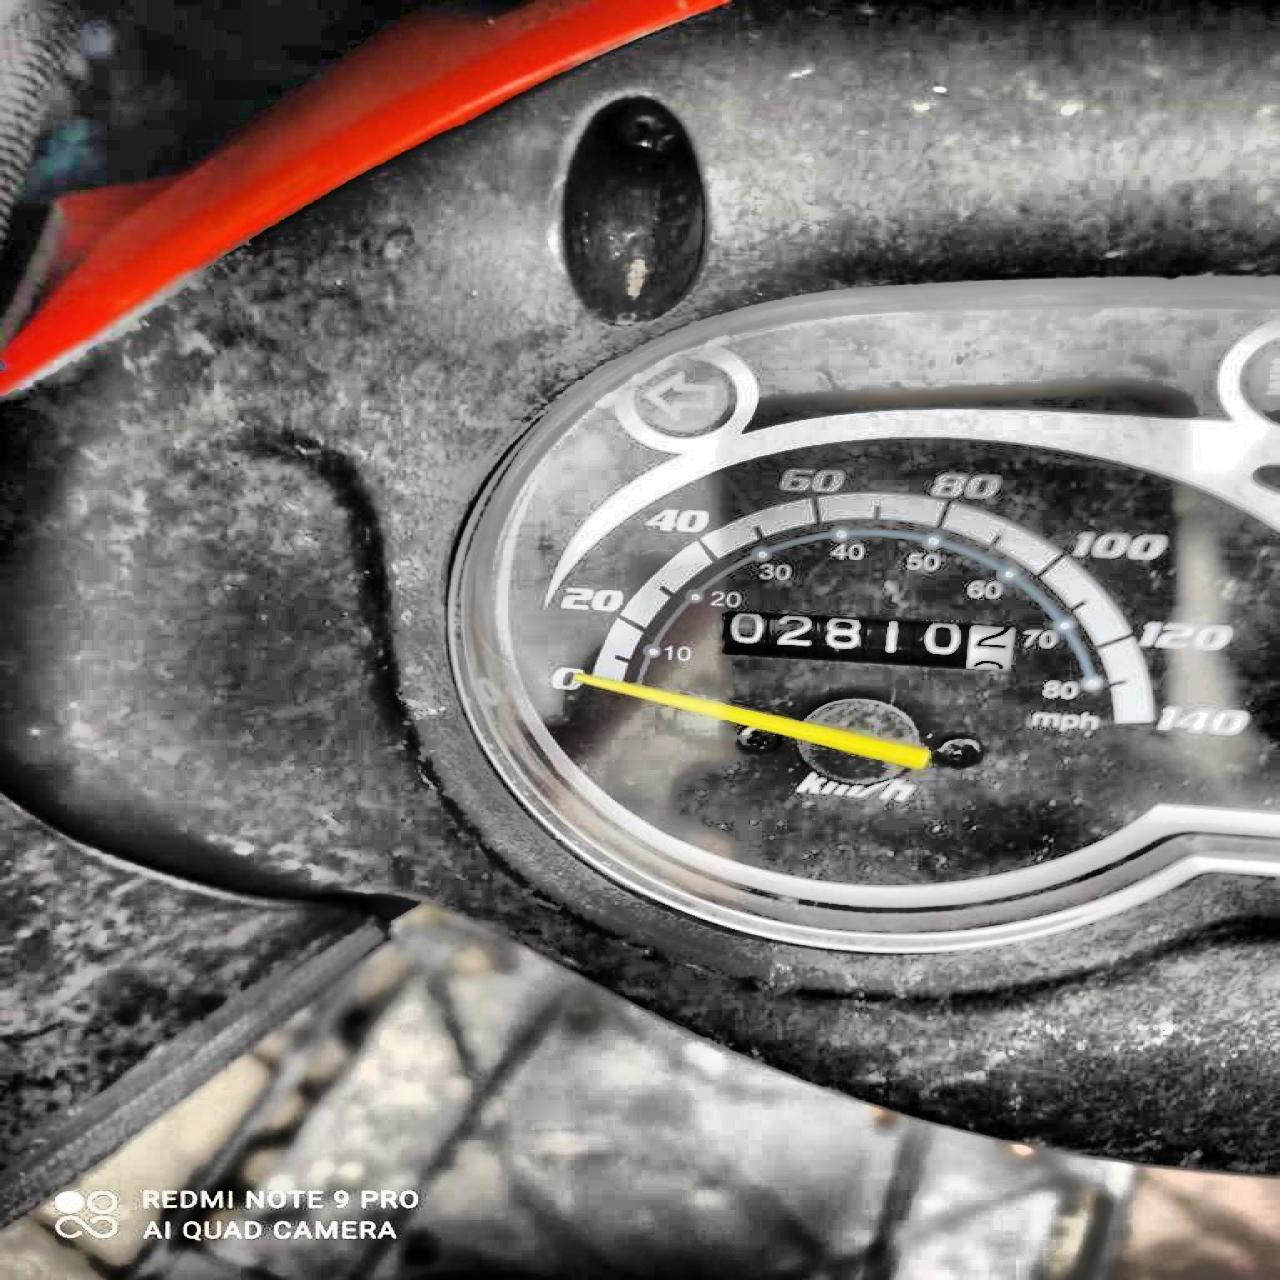0: (921, 620, 961, 655), (727, 610, 764, 645)
1: (879, 619, 903, 653)
2: (774, 613, 812, 647), (974, 624, 1012, 648)
8: (822, 617, 860, 651)
odometer: (701, 606, 1022, 674)
